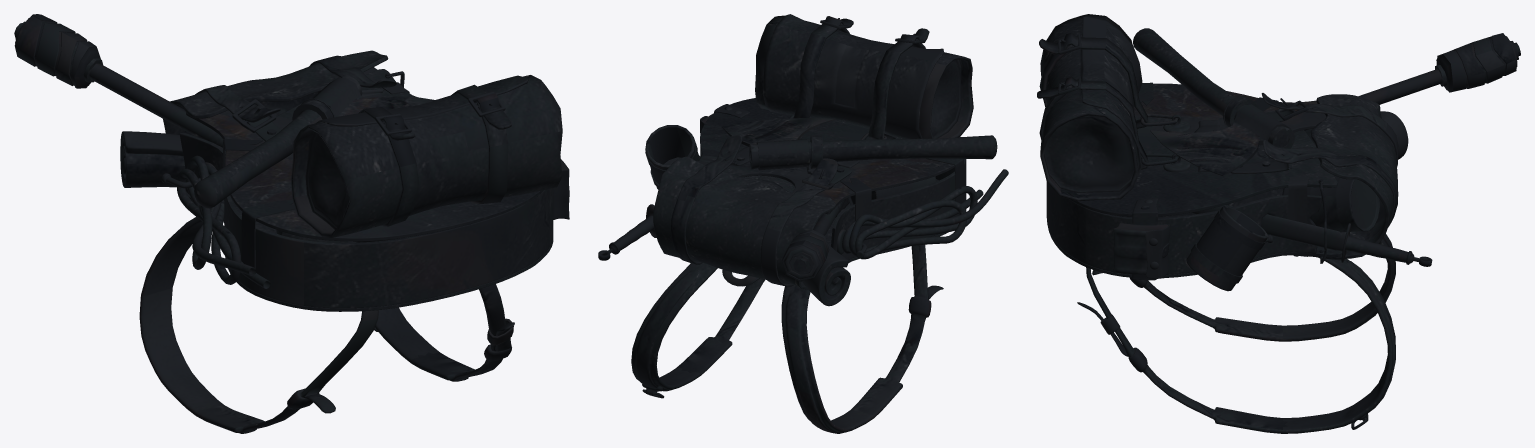
The model's file is backpack.gltf.
3 renders of one model, left to right at view 1: azimuth 30°, elevation 25°; view 2: azimuth 150°, elevation 25°; view 3: azimuth 270°, elevation 25°, orthographic. The views are drawn at different scales.
Visible parts, largest first — view 1: backpack; view 2: backpack; view 3: backpack.
Boxes of the visible parts, x1,y1,x2,y2 form: backpack: (14,14,569,433); backpack: (598,14,1008,433); backpack: (1037,14,1520,433).
Size of the model in its own units: 3.74 by 3.47 by 4.63.
